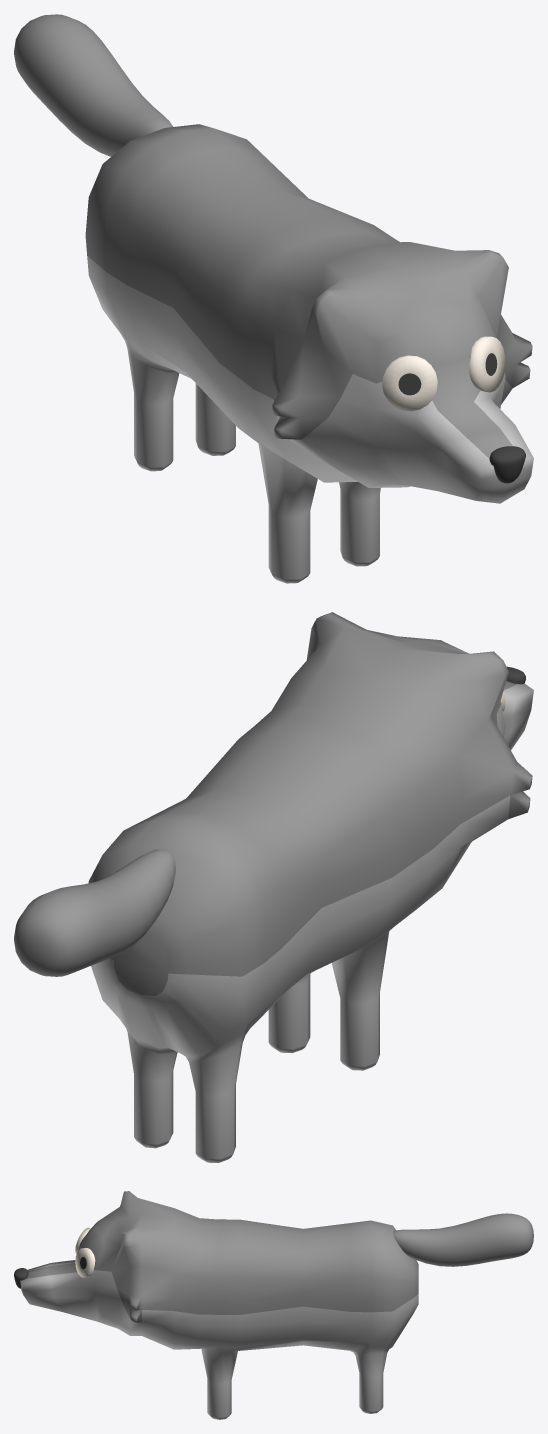
Rendered from wolf.fbx.
3 views of the same model, one above another, from view 1: azimuth 30°, elevation 25°; view 2: azimuth 150°, elevation 25°; view 3: azimuth 270°, elevation 25° (orthographic). The views are drawn at different scales.
Parts seen in each view (by area): view 1: Cube.004; view 2: Cube.004; view 3: Cube.004.
Part boxes in pixels (left/top/right/bottom): Cube.004: left=14, top=14, right=533, bottom=583; Cube.004: left=14, top=612, right=533, bottom=1162; Cube.004: left=14, top=1191, right=533, bottom=1419.
Size of the model in its own units: 0.457 by 0.611 by 1.47.
Materials: 1 (1 with a texture image).
